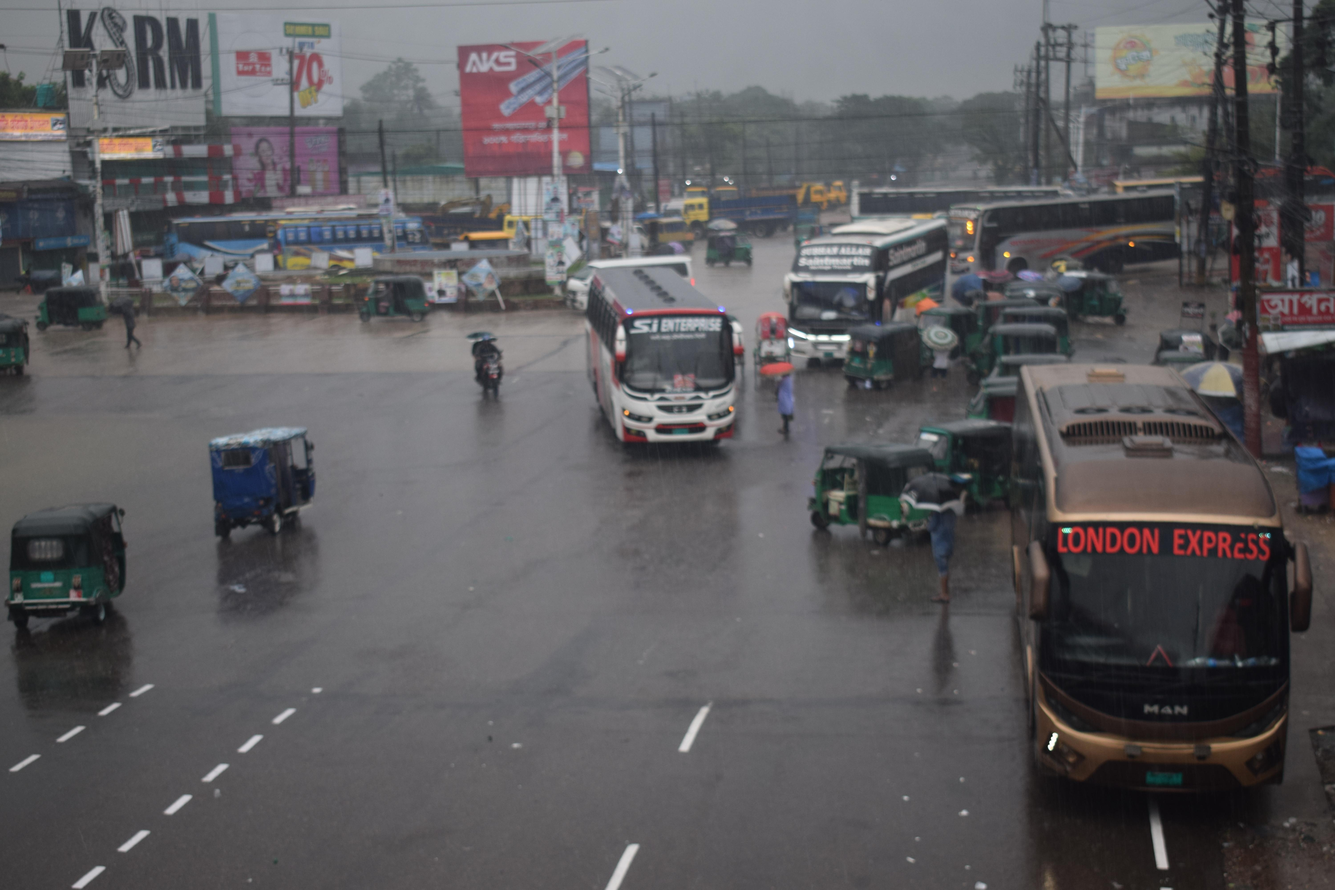Bike: (424, 307, 544, 423)
Bus: (985, 341, 1334, 829), (566, 250, 765, 471), (761, 204, 957, 355), (250, 189, 471, 316), (961, 177, 1214, 285), (139, 188, 367, 293), (836, 158, 1107, 246)
Car: (195, 392, 349, 560)
